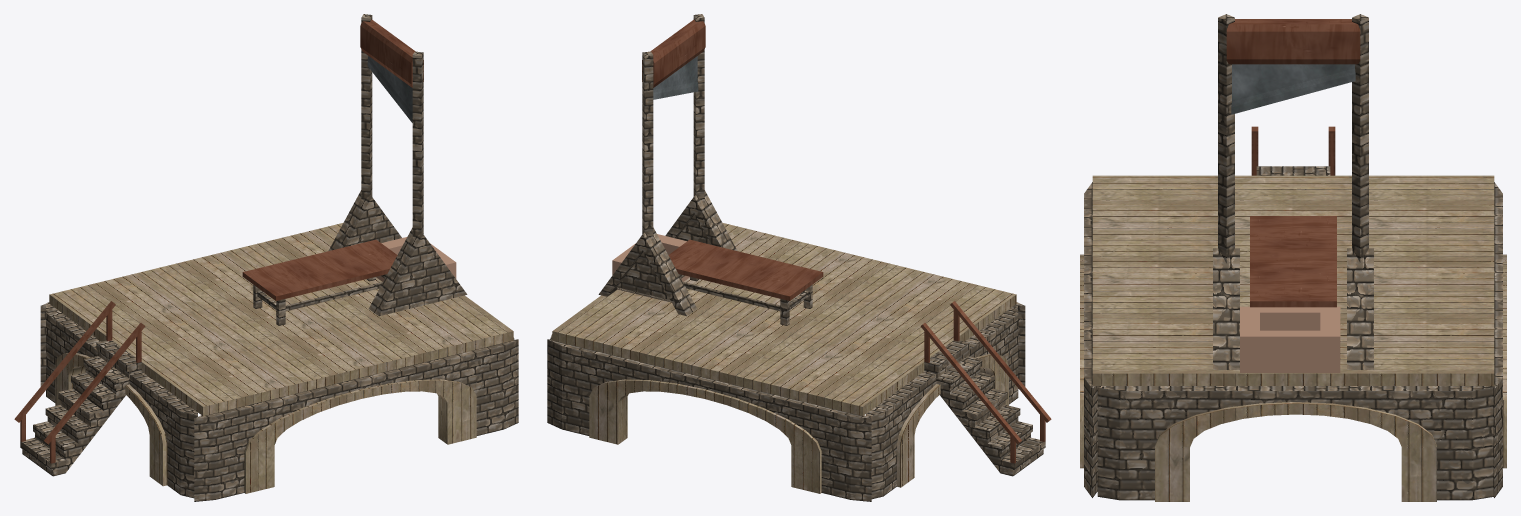
Rendered from Scaffold.fbx.
3 views of the same model, side by side, from view 1: azimuth 30°, elevation 25°; view 2: azimuth 150°, elevation 25°; view 3: azimuth 270°, elevation 25° (orthographic). The views are drawn at different scales.
Parts seen in each view (by area): view 1: mergedBlocks; view 2: mergedBlocks; view 3: mergedBlocks.
Boxes of the visible parts, x1,y1,x2,y2 form: mergedBlocks: (14, 14, 518, 501); mergedBlocks: (547, 14, 1051, 501); mergedBlocks: (1080, 14, 1506, 501).
Bounding box in the file's own units: 47.02 × 37 × 31.85.
